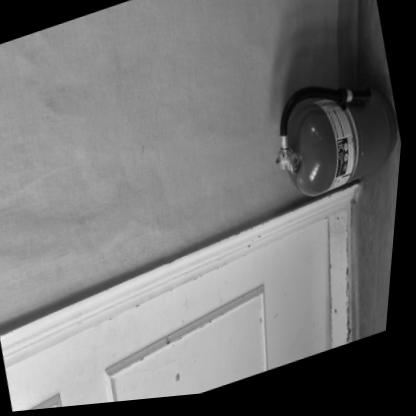FE: (264, 67, 410, 215)
